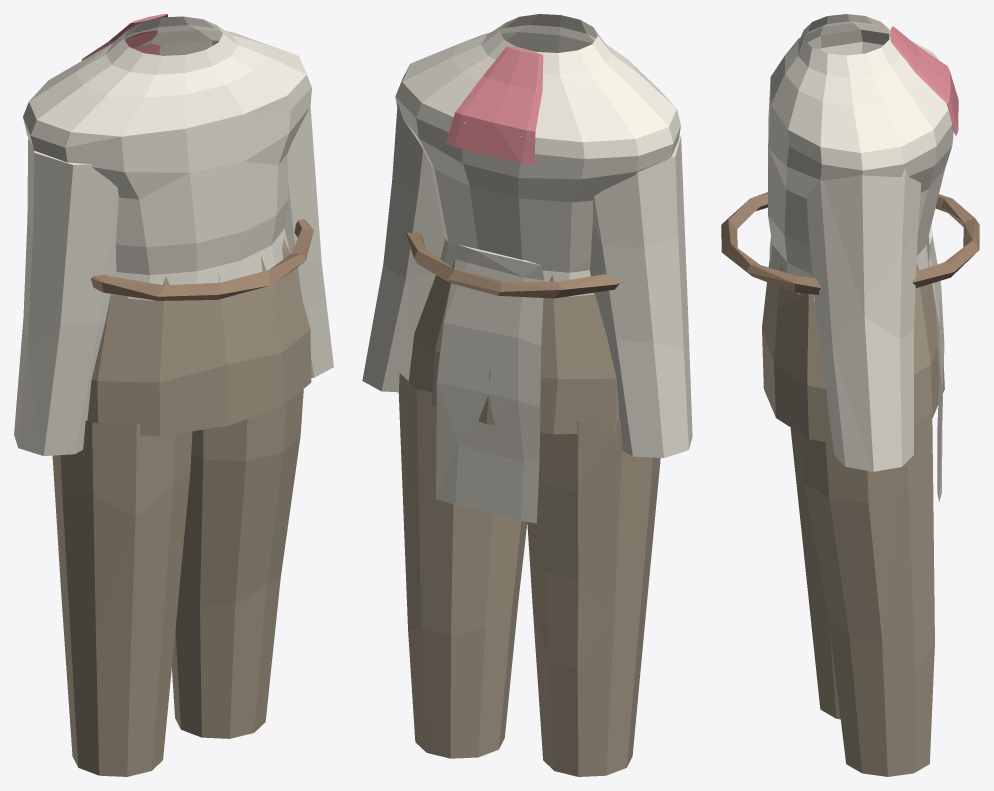
The model's file is 19-NPCs_vestimenta_campesina.glb.
3 views of the same model, side by side, from view 1: azimuth 30°, elevation 25°; view 2: azimuth 150°, elevation 25°; view 3: azimuth 270°, elevation 25° (orthographic). The views are drawn at different scales.
Visible parts, largest first — view 1: SM_Camp_M_Camp_Pantalon, SM_Camp_M_Camp_Lino, SM_Camp_M_Camp_Cuerda, SM_Camp_M_Camp_Panuelo; view 2: SM_Camp_M_Camp_Lino, SM_Camp_M_Camp_Pantalon, SM_Camp_M_Camp_Panuelo, SM_Camp_M_Camp_Cuerda; view 3: SM_Camp_M_Camp_Lino, SM_Camp_M_Camp_Pantalon, SM_Camp_M_Camp_Cuerda, SM_Camp_M_Camp_Panuelo.
Boxes of the visible parts, left/top/right/bottom form: SM_Camp_M_Camp_Pantalon: left=52, top=239, right=311, bottom=776; SM_Camp_M_Camp_Lino: left=14, top=16, right=333, bottom=455; SM_Camp_M_Camp_Cuerda: left=91, top=219, right=313, bottom=300; SM_Camp_M_Camp_Panuelo: left=81, top=14, right=167, bottom=60; SM_Camp_M_Camp_Lino: left=362, top=14, right=692, bottom=523; SM_Camp_M_Camp_Pantalon: left=398, top=260, right=660, bottom=776; SM_Camp_M_Camp_Panuelo: left=445, top=46, right=543, bottom=165; SM_Camp_M_Camp_Cuerda: left=406, top=232, right=620, bottom=298; SM_Camp_M_Camp_Lino: left=768, top=14, right=953, bottom=501; SM_Camp_M_Camp_Pantalon: left=762, top=242, right=944, bottom=776; SM_Camp_M_Camp_Cuerda: left=721, top=192, right=979, bottom=294; SM_Camp_M_Camp_Panuelo: left=890, top=26, right=958, bottom=135.
Size of the model in its own units: 0.5496 by 1.18 by 0.3997.
